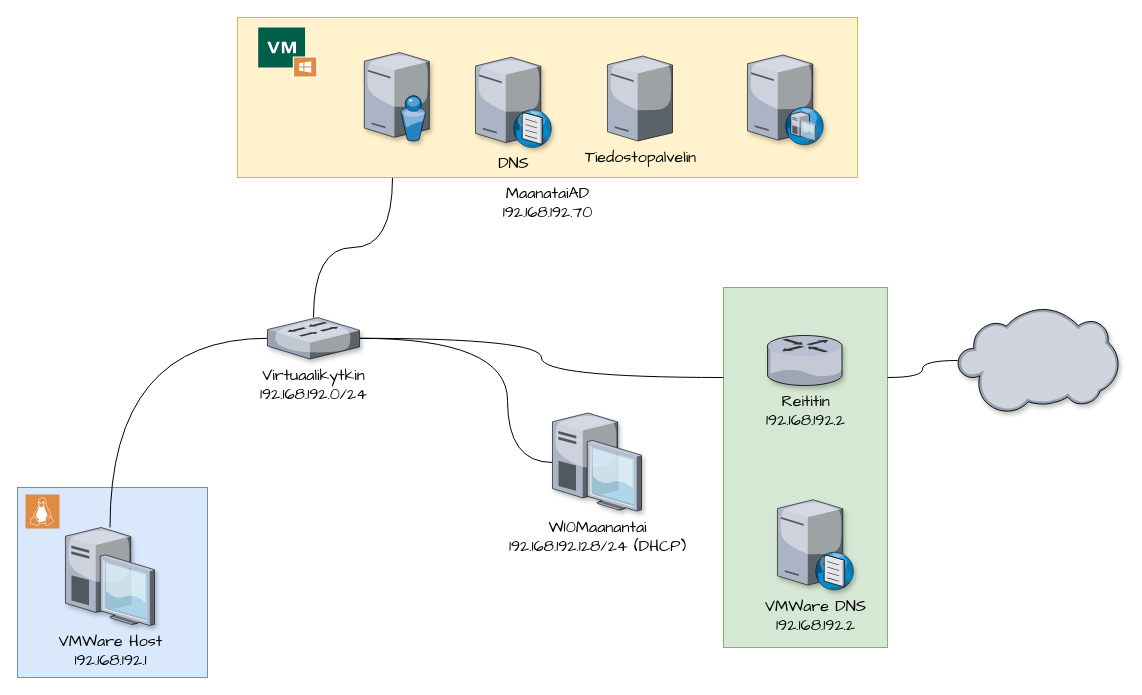
The diagram is 1142 pixels wide and 695 high, and some of its shapes have lost their labels. The centre of each missing label's shape, as x and y in pixels:
"AD" belongs at point (397, 98).
"DHCP" belongs at point (786, 101).
"Internet" belongs at point (1038, 362).
